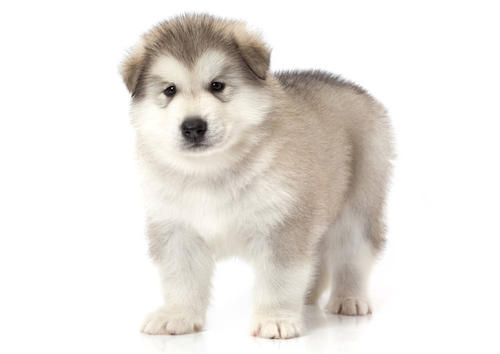dog: (115, 17, 278, 165)
